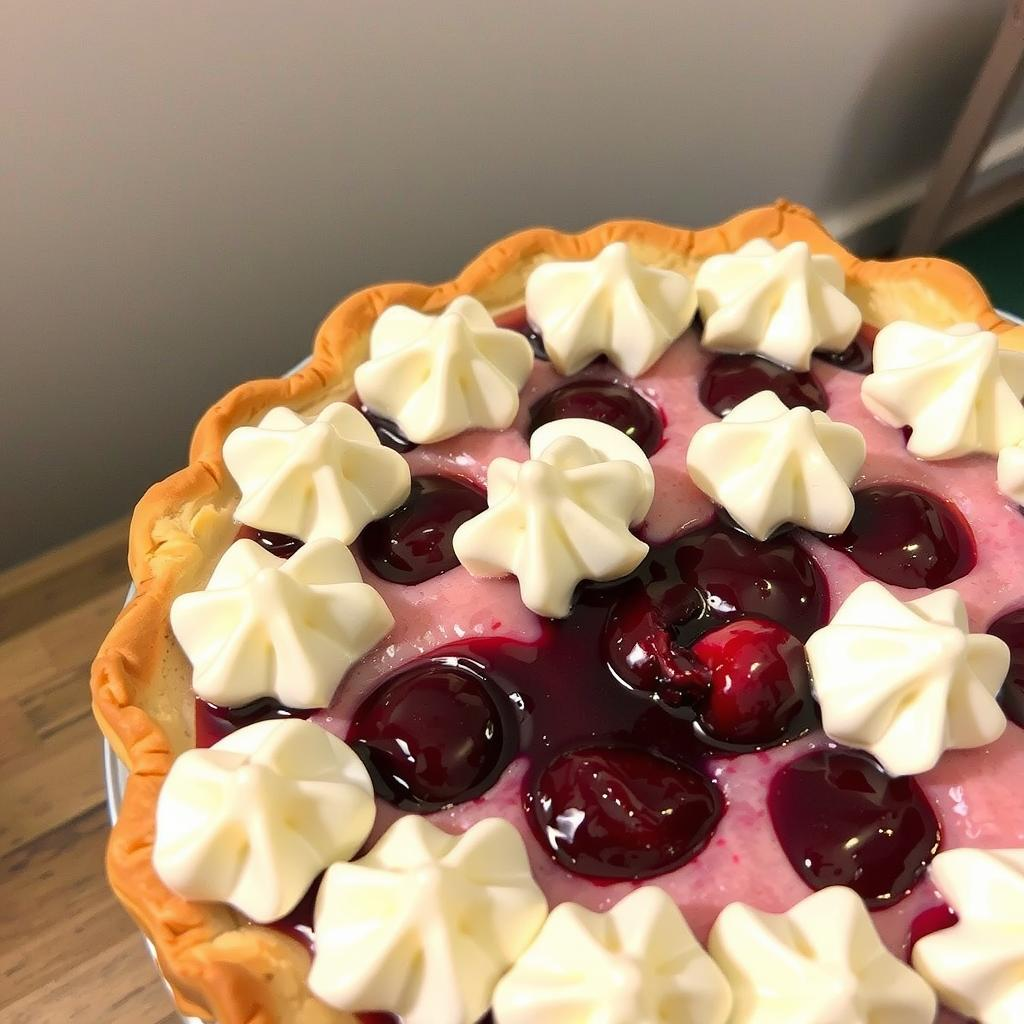pie: (77, 190, 1024, 1024)
